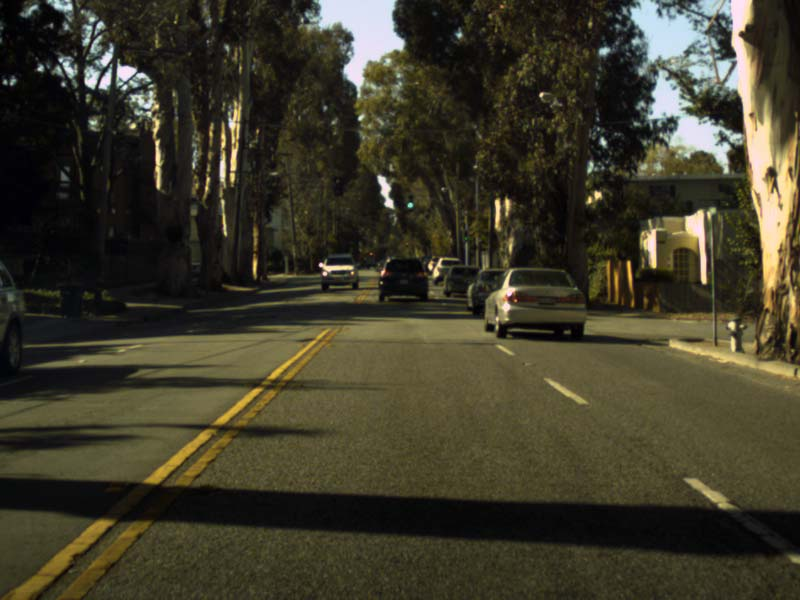Green: (406, 194, 414, 209), (463, 230, 467, 241)
